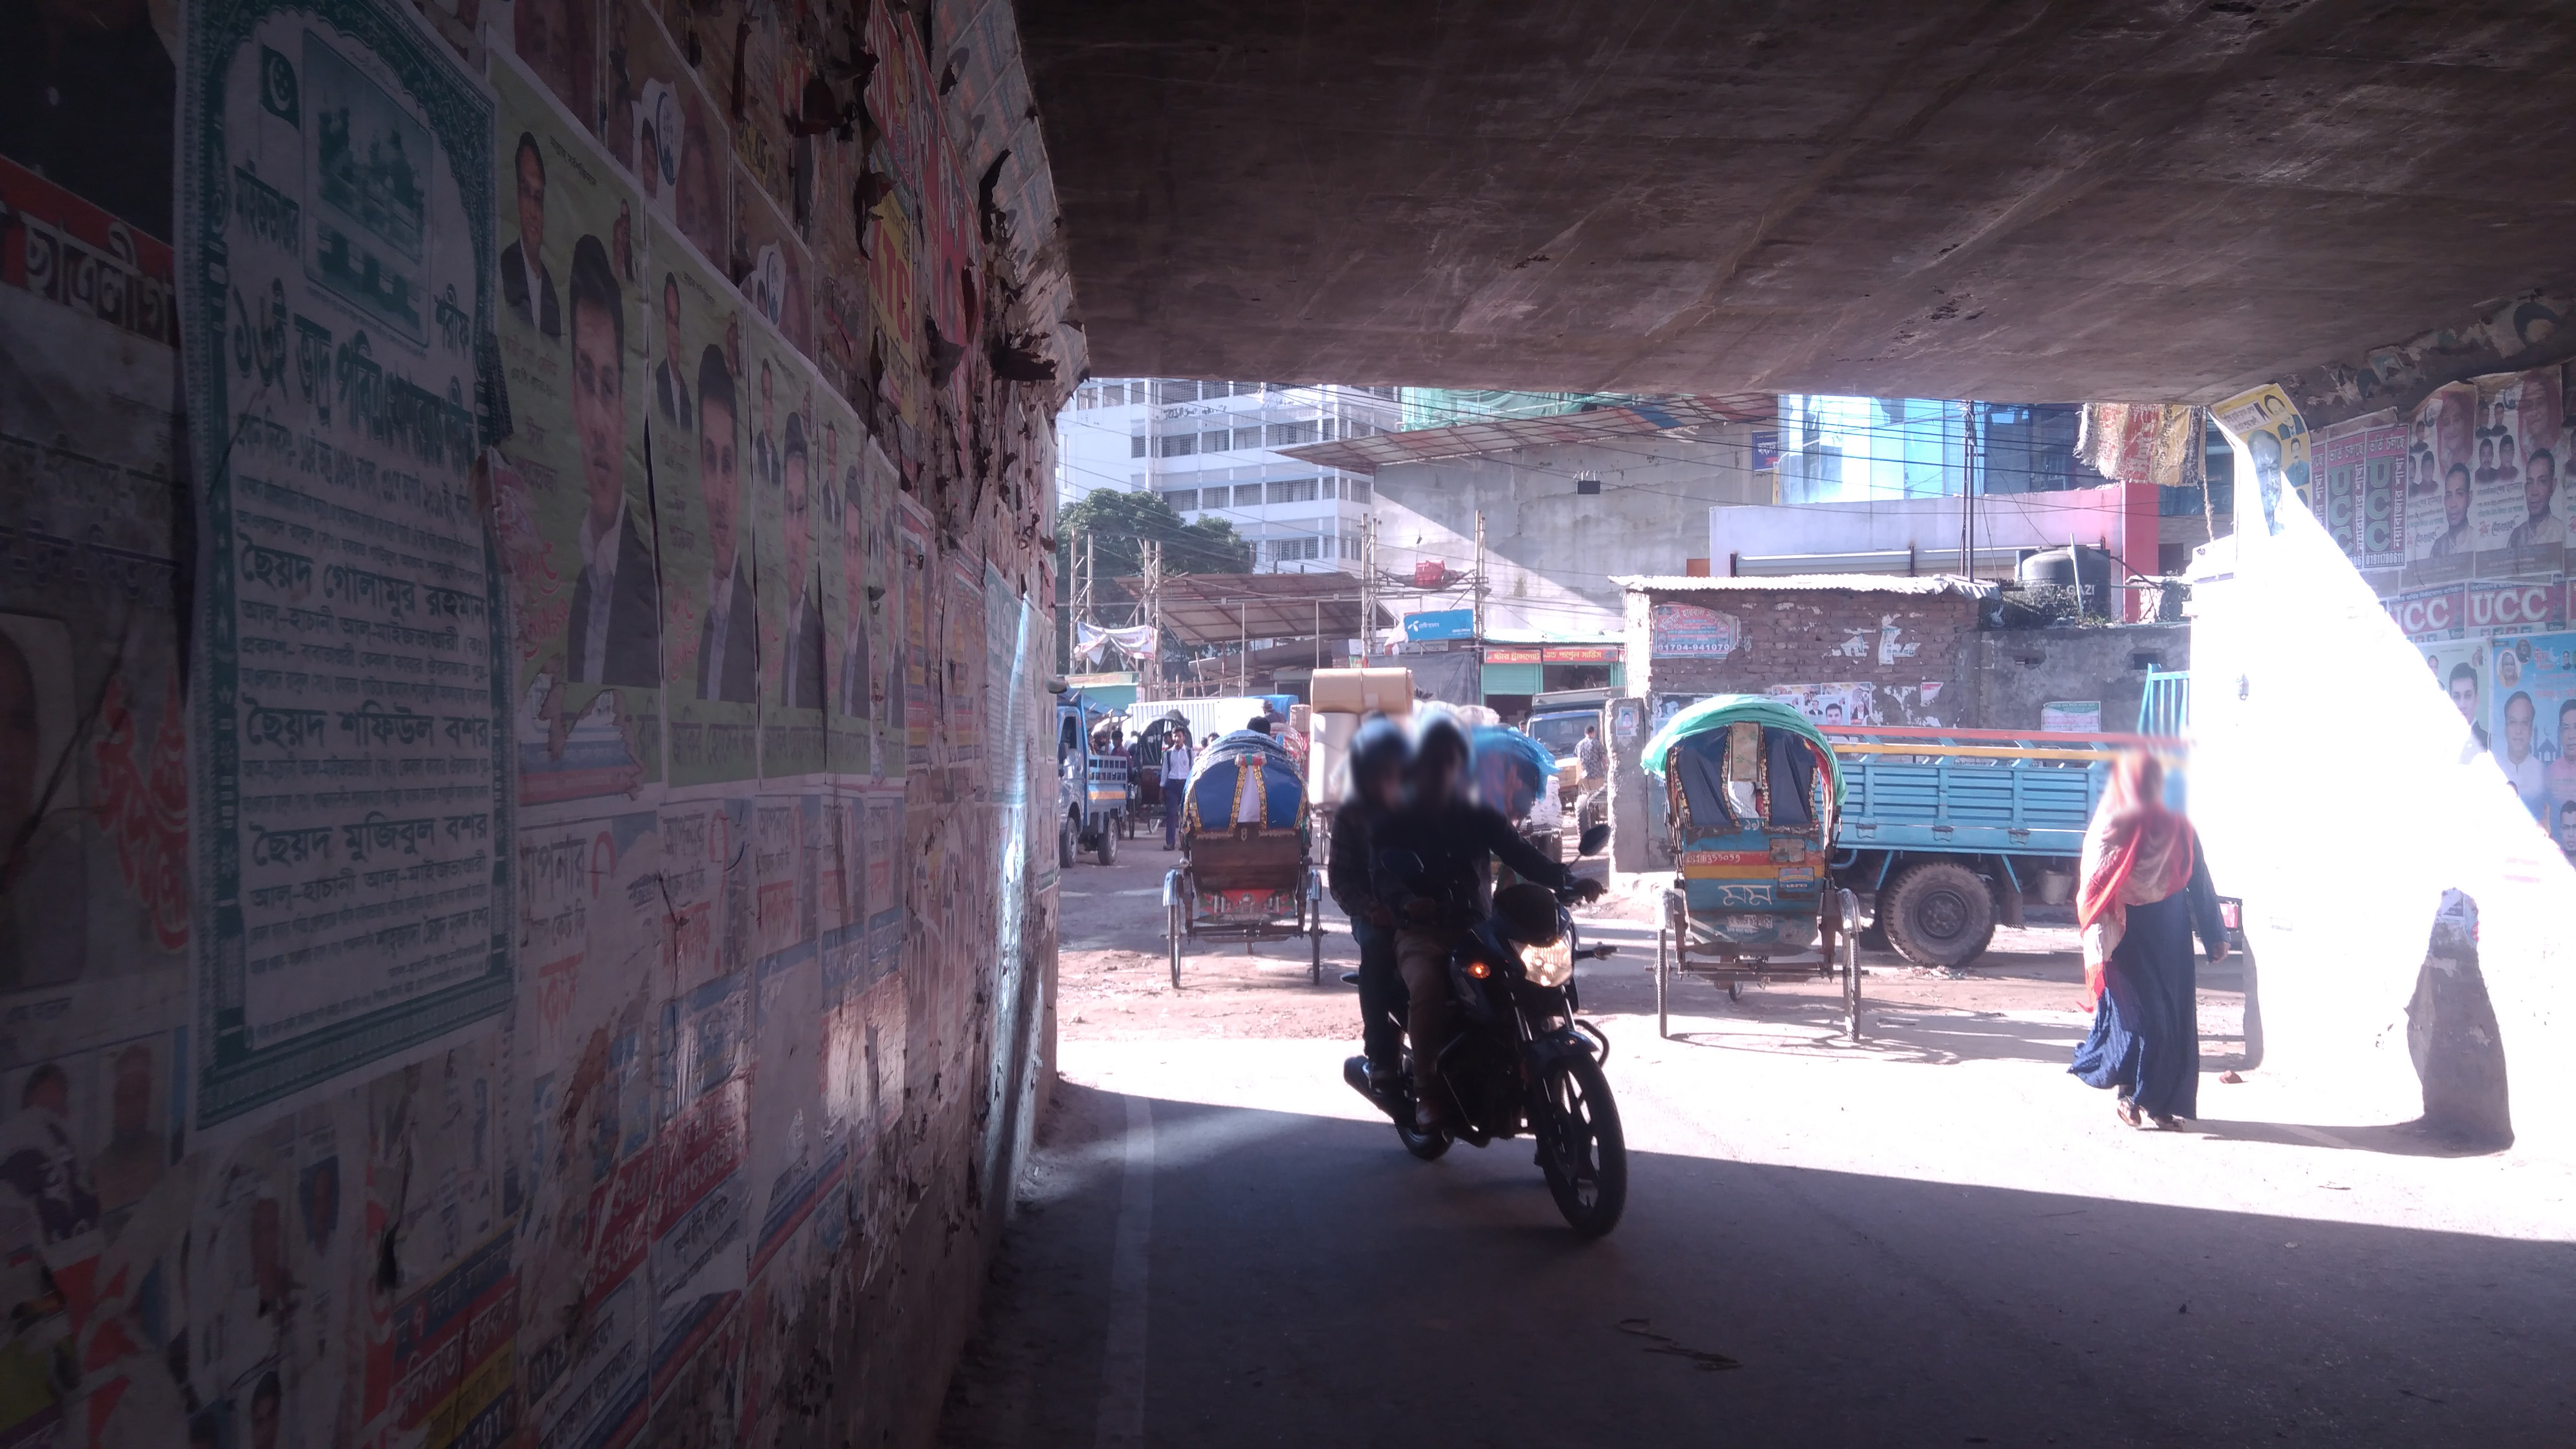bike: (1318, 853, 1644, 1228)
rickshaw: (1642, 674, 1882, 1049), (1173, 724, 1336, 1003), (1430, 704, 1580, 876)
truck: (1817, 637, 2231, 987), (1058, 697, 1143, 863)
